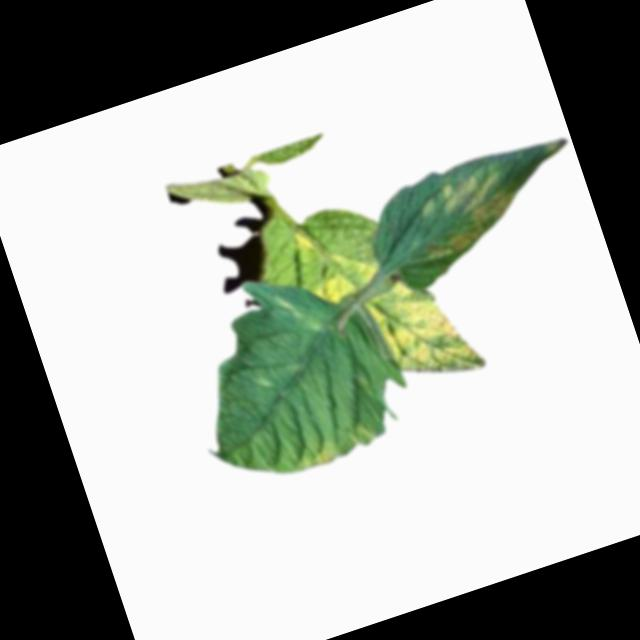Leaf_Mold: (361, 259, 489, 397), (402, 160, 532, 268), (301, 238, 391, 314), (296, 441, 343, 474), (287, 221, 319, 257)
